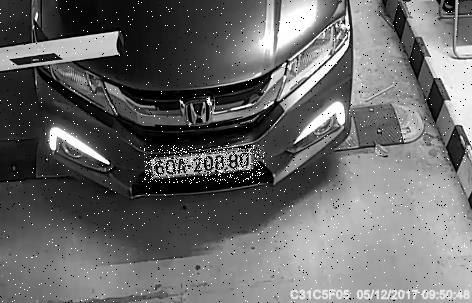License-plate: (145, 146, 265, 184)
